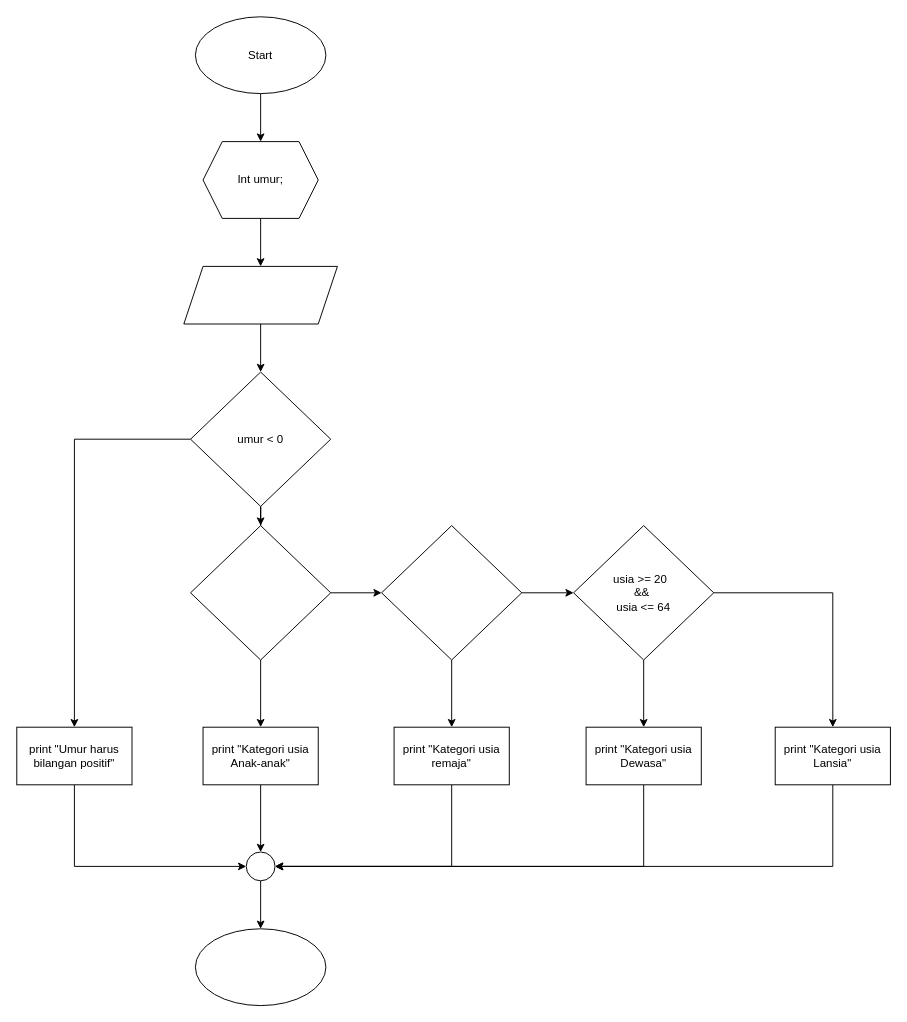
This 907x1022 diagram has some shape labels left out. Here are the shapes that lost their labels. From the top down, the centre of each, then its label:
At [260,294]: "input umur".
At [260,592]: "usia >= 0 && usia <= 12".
At [451,592]: "usia >= 13 && usia <= 19".
At [260,967]: "end".
